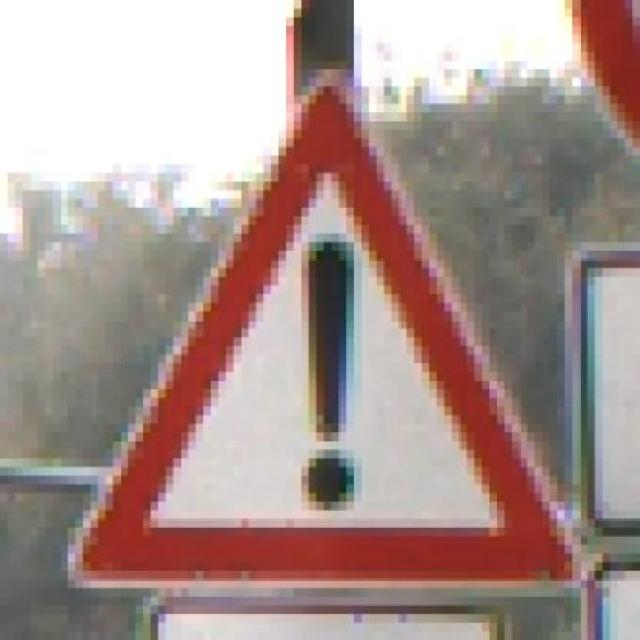Attention Please-: (54, 77, 597, 597)
